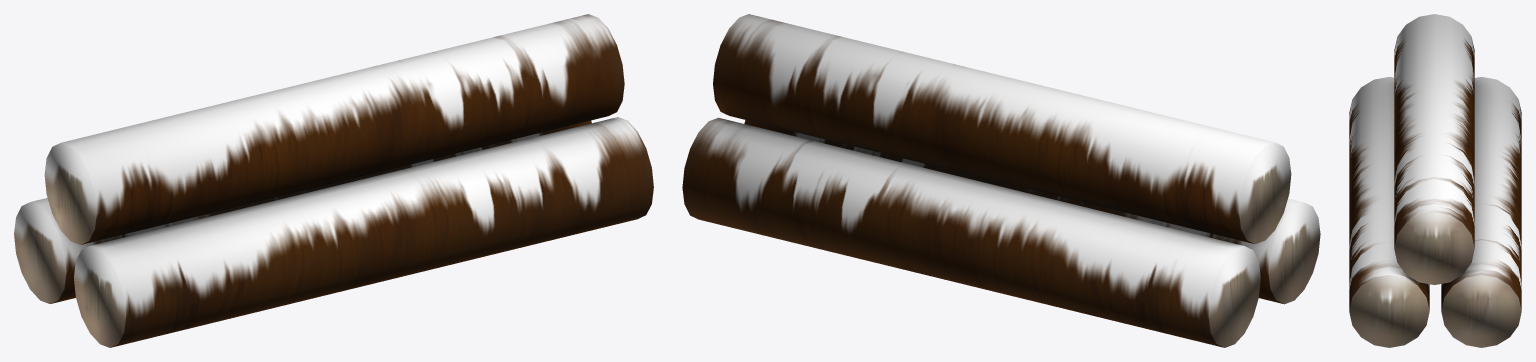
File: wood02.fbx
3 renders of one model, left to right at view 1: azimuth 30°, elevation 25°; view 2: azimuth 150°, elevation 25°; view 3: azimuth 270°, elevation 25°, orthographic. The views are drawn at different scales.
Visible parts, largest first — view 1: Cylinder009, Cylinder010, Cylinder008; view 2: Cylinder008, Cylinder010, Cylinder009; view 3: Cylinder010, Cylinder008, Cylinder009.
Part boxes in pixels (x1=…): Cylinder009: x1=74, y1=117, x2=653, y2=347; Cylinder010: x1=44, y1=14, x2=624, y2=244; Cylinder008: x1=14, y1=120, x2=591, y2=303; Cylinder008: x1=682, y1=117, x2=1260, y2=347; Cylinder010: x1=713, y1=14, x2=1291, y2=244; Cylinder009: x1=744, y1=120, x2=1320, y2=304; Cylinder010: x1=1394, y1=14, x2=1474, y2=284; Cylinder008: x1=1441, y1=77, x2=1521, y2=347; Cylinder009: x1=1349, y1=77, x2=1429, y2=347.
Size of the model in its own units: 47.45 by 15.15 by 17.45.
